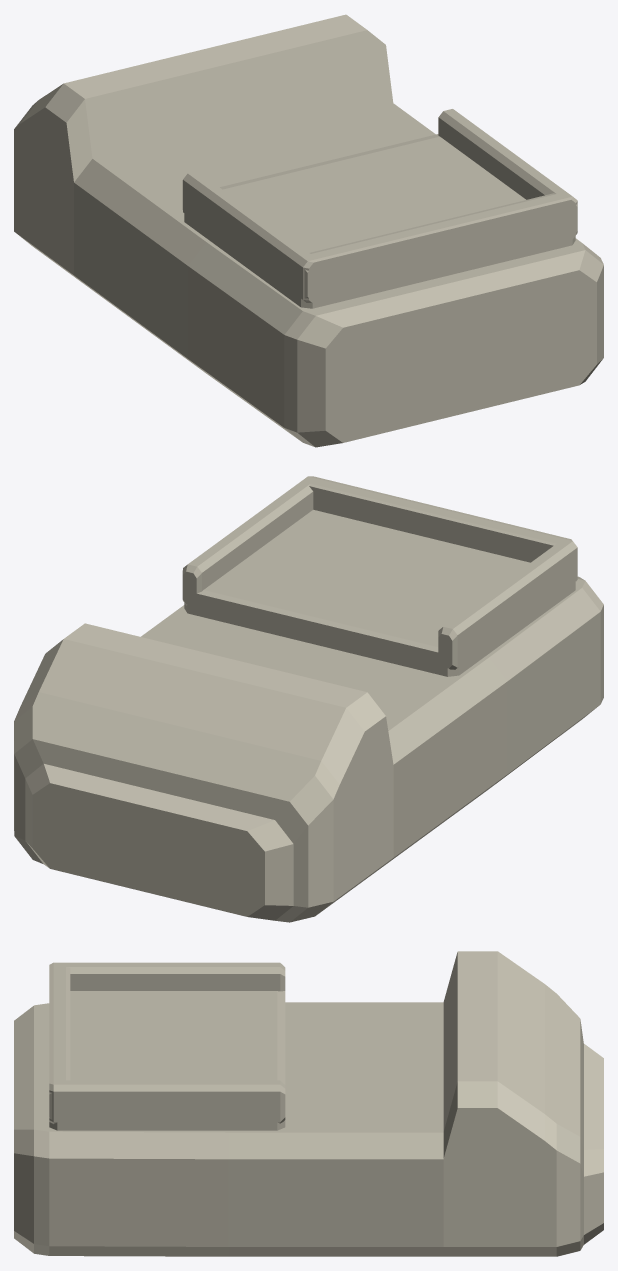
File: durham_medium_b.glb
The picture shows the model from 3 angles, top to bottom: view 1: azimuth 30°, elevation 25°; view 2: azimuth 150°, elevation 25°; view 3: azimuth 270°, elevation 25°; orthographic projection. The views are drawn at different scales.
Parts seen in each view (by area): view 1: durham_medium_b; view 2: durham_medium_b; view 3: durham_medium_b.
Part boxes in pixels (x1,y1,x2,y2): durham_medium_b: [14, 14, 603, 447]; durham_medium_b: [14, 476, 603, 922]; durham_medium_b: [14, 951, 603, 1256].
Size of the model in its own units: 3.6 by 2 by 6.1.
